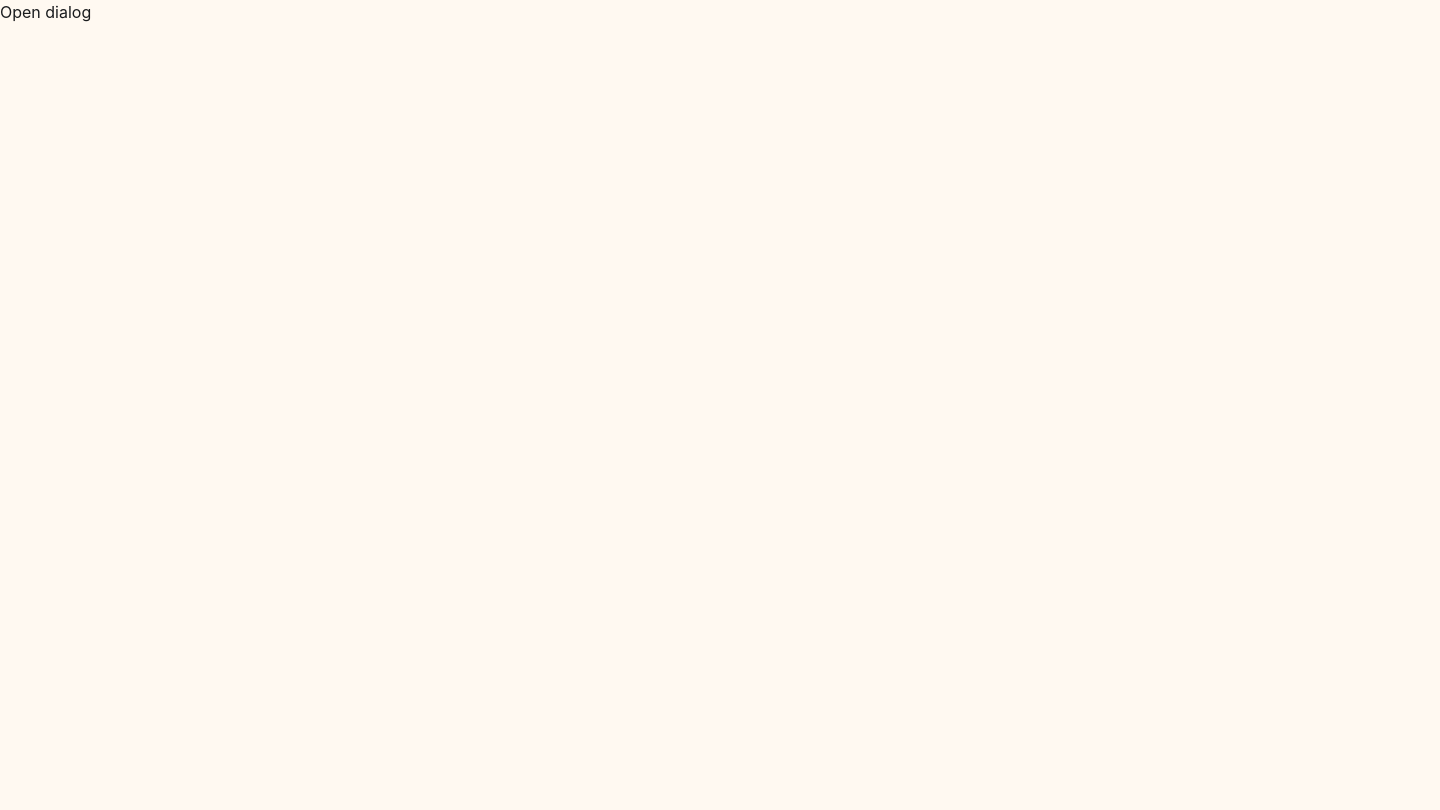
Test: NewCategoryDialog › creates a category, shows a success toast, resets, closes, and refreshes
Later steps or results of the test are not shown.
Click the button "Open dialog" at x=46, y=12, box [0,0,91,24]
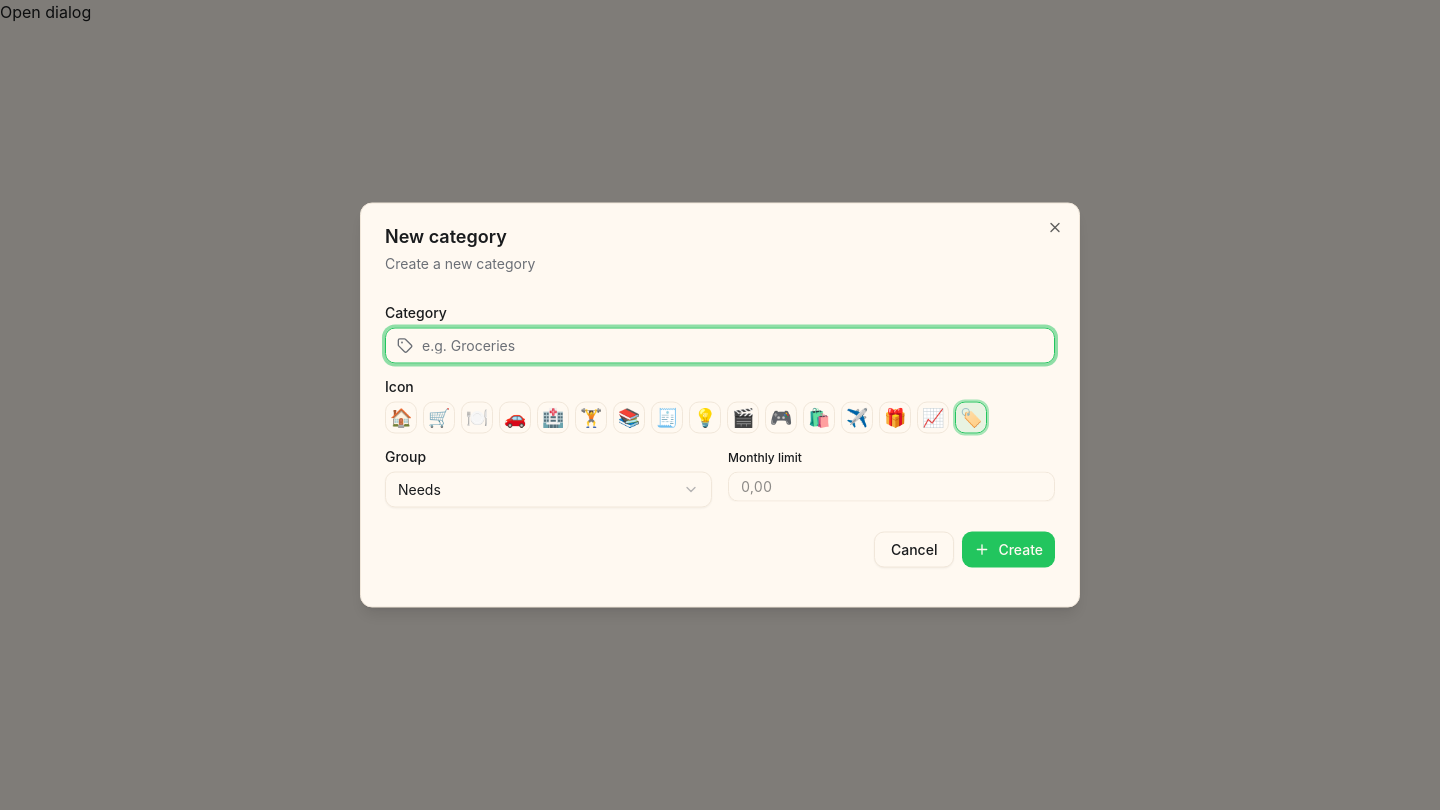
Type "Groceries" into the field with placeholder "e.g. Groceries" at x=720, y=345, box [385,327,1055,363]
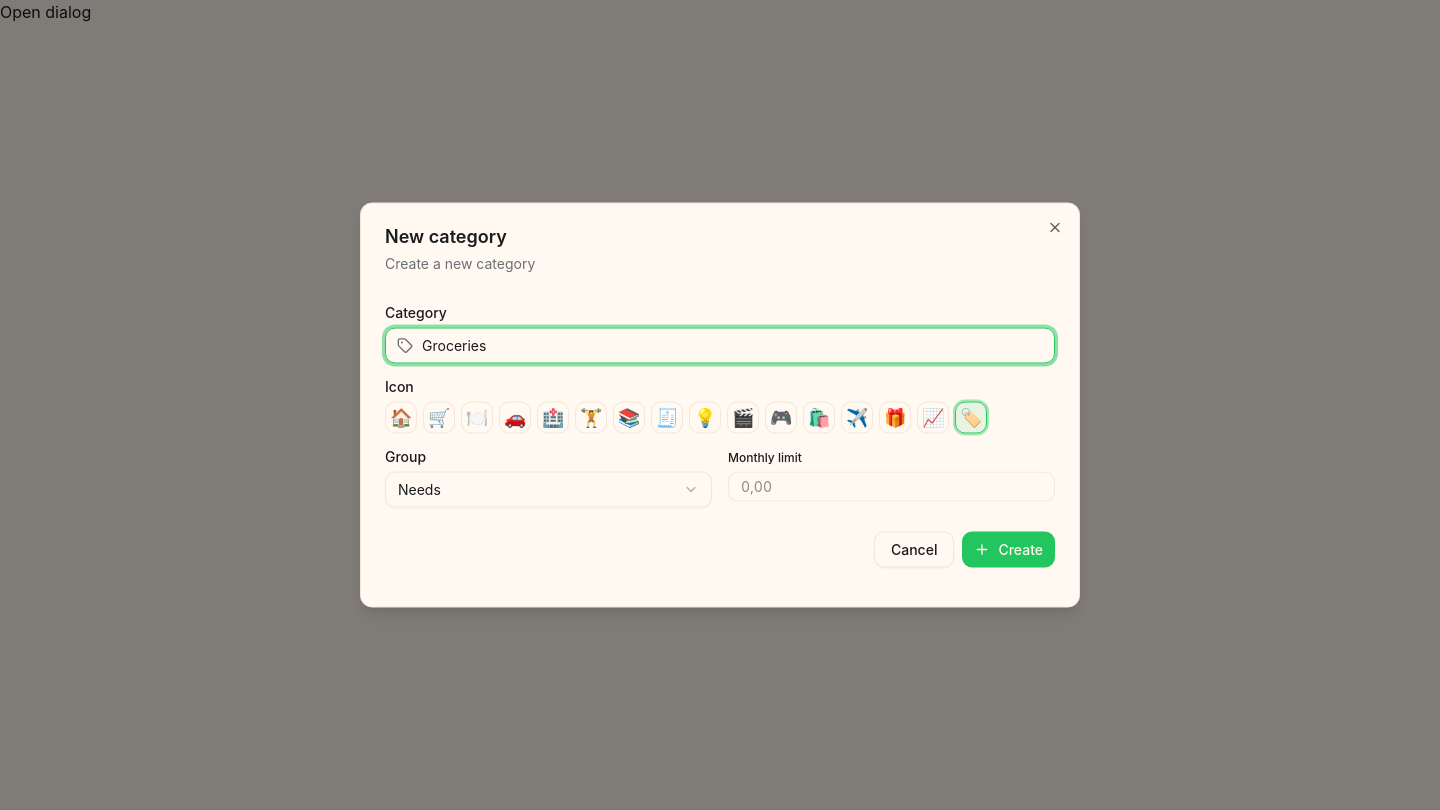
Click the button "Create" at x=1009, y=549, box [962,531,1055,567]
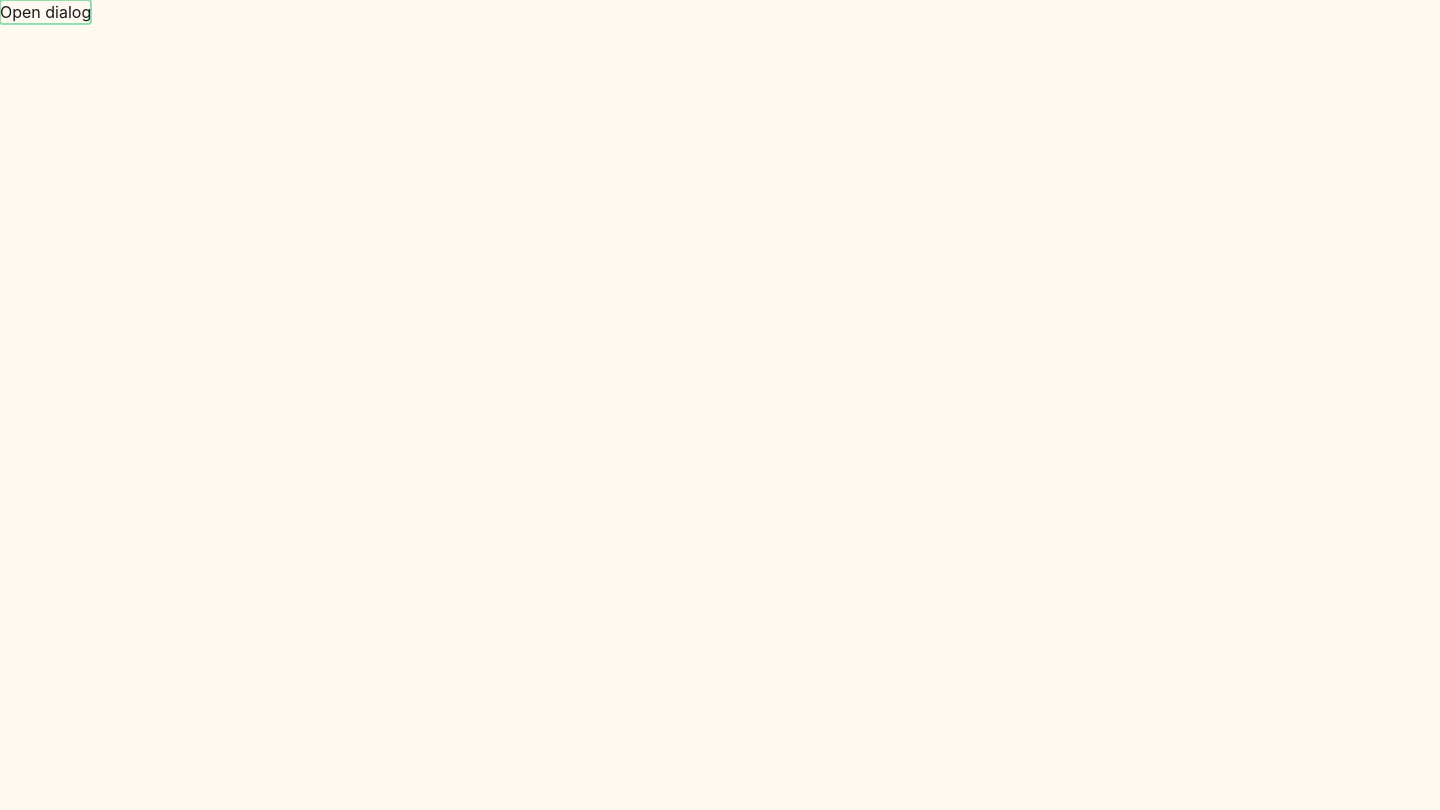
Now the heading "New category" is gone
